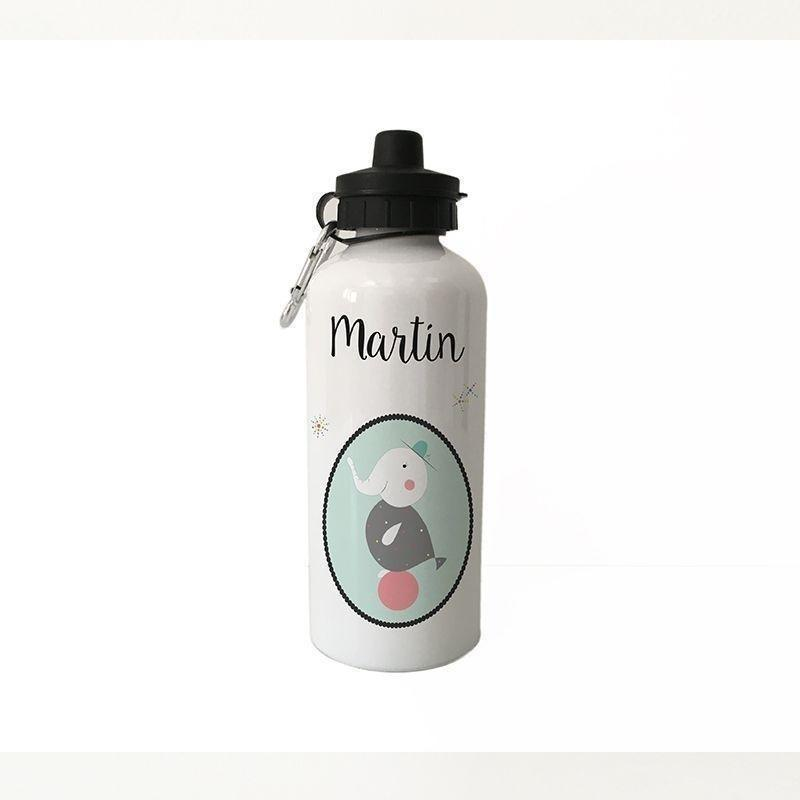gym bottle: (294, 126, 494, 672)
